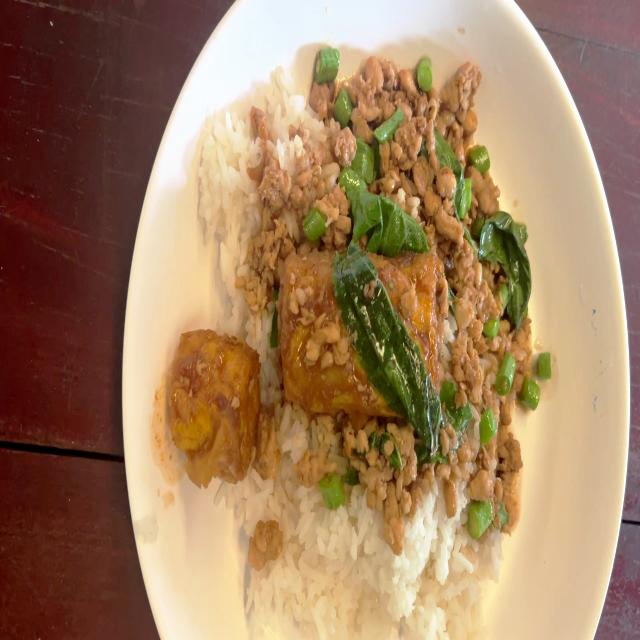fried_tofo: (280, 243, 440, 423), (177, 331, 252, 476)
minced_pork: (259, 53, 496, 241), (442, 232, 535, 526), (293, 416, 445, 526)
rice: (248, 526, 514, 640)
stir_fried_basil: (168, 48, 541, 640)
